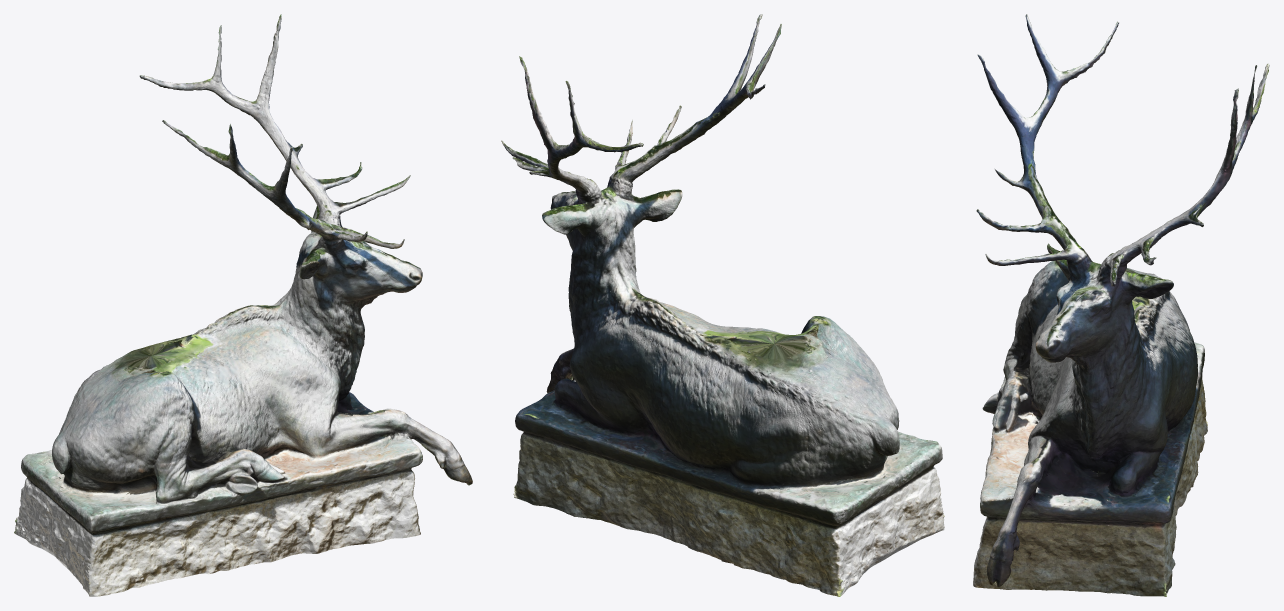
3 views of the same model, side by side, from view 1: azimuth 30°, elevation 25°; view 2: azimuth 150°, elevation 25°; view 3: azimuth 270°, elevation 25° (orthographic). The views are drawn at different scales.
Parts seen in each view (by area): view 1: 2k.50k; view 2: 2k.50k; view 3: 2k.50k.
Part boxes in pixels (x1,y1,x2,y2): 2k.50k: (14,14,472,596); 2k.50k: (501,14,944,596); 2k.50k: (973,14,1269,596).
Bounding box in the file's own units: 2.42 × 2.72 × 1.5.
1 material, 1 textured.
